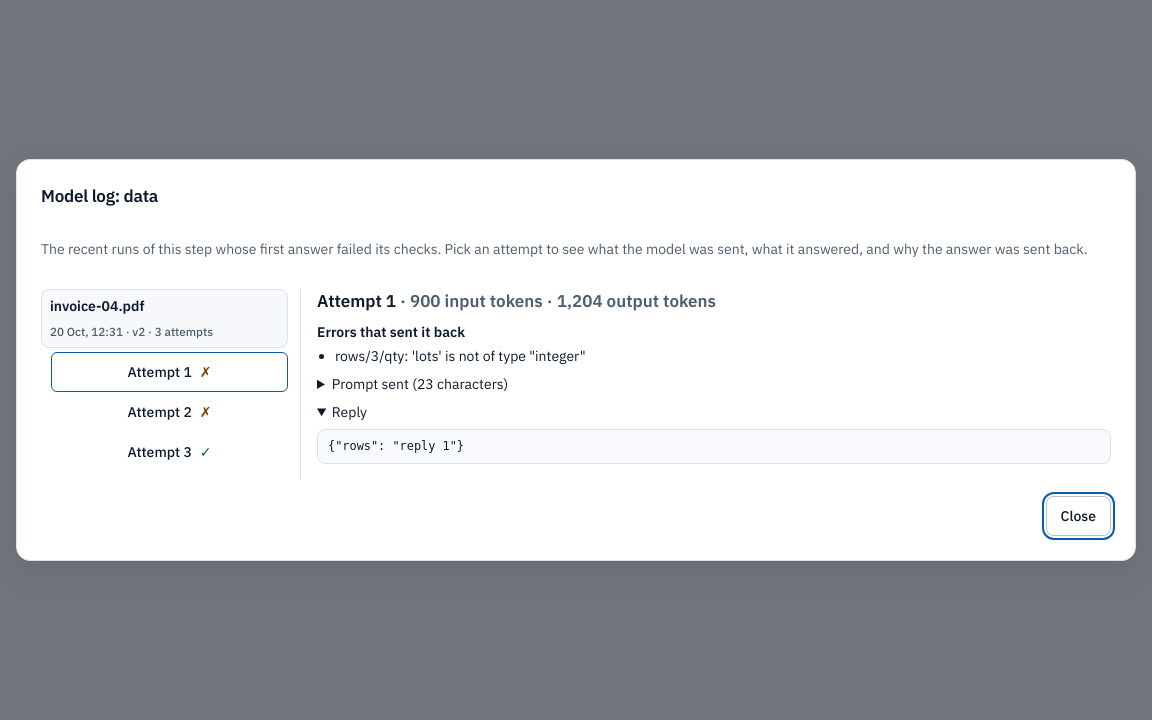
Test: StepAttemptsDialog › marks each attempt refused or accepted, and shows the one picked
Step 1. Click the button with aria-label "Attempt 3 accepted" → x=170, y=452, box [51,432,288,472]
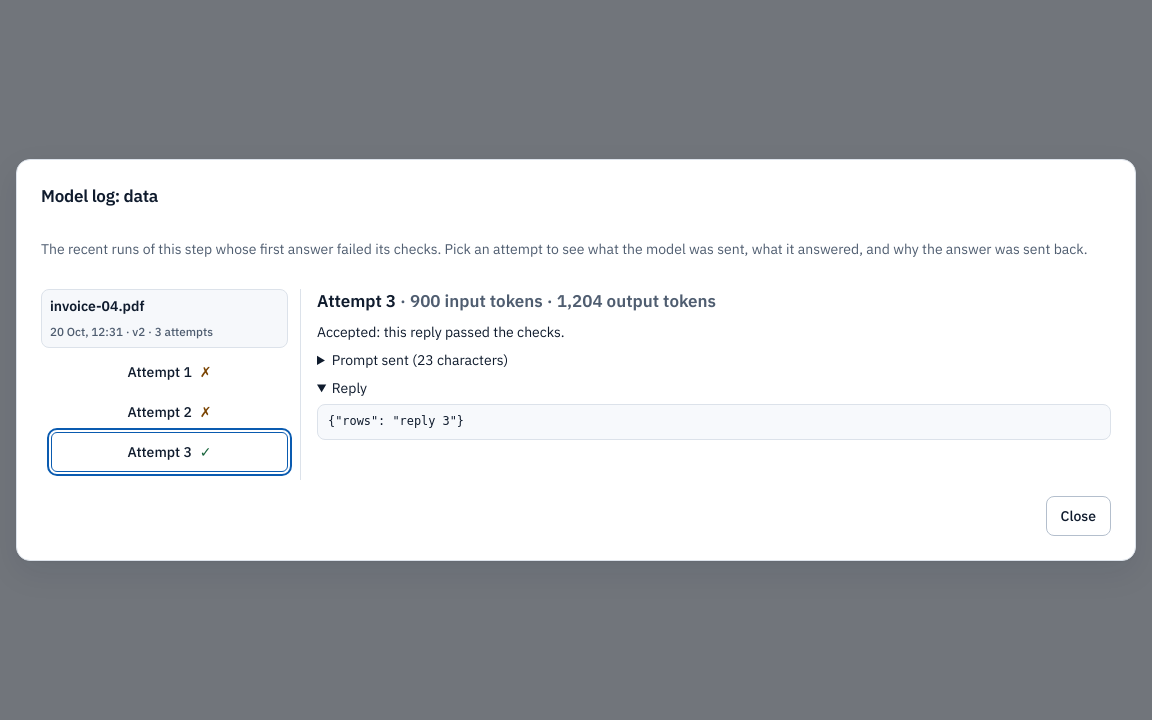
Now the text "Accepted: this reply passed the checks." is shown, box [317,322,565,340]
Now the heading "Errors that sent it back" is gone
